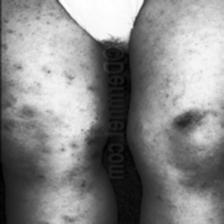Non-Cancerous Skin Condition: (71, 121, 103, 172), (0, 103, 34, 139), (162, 108, 200, 136)
